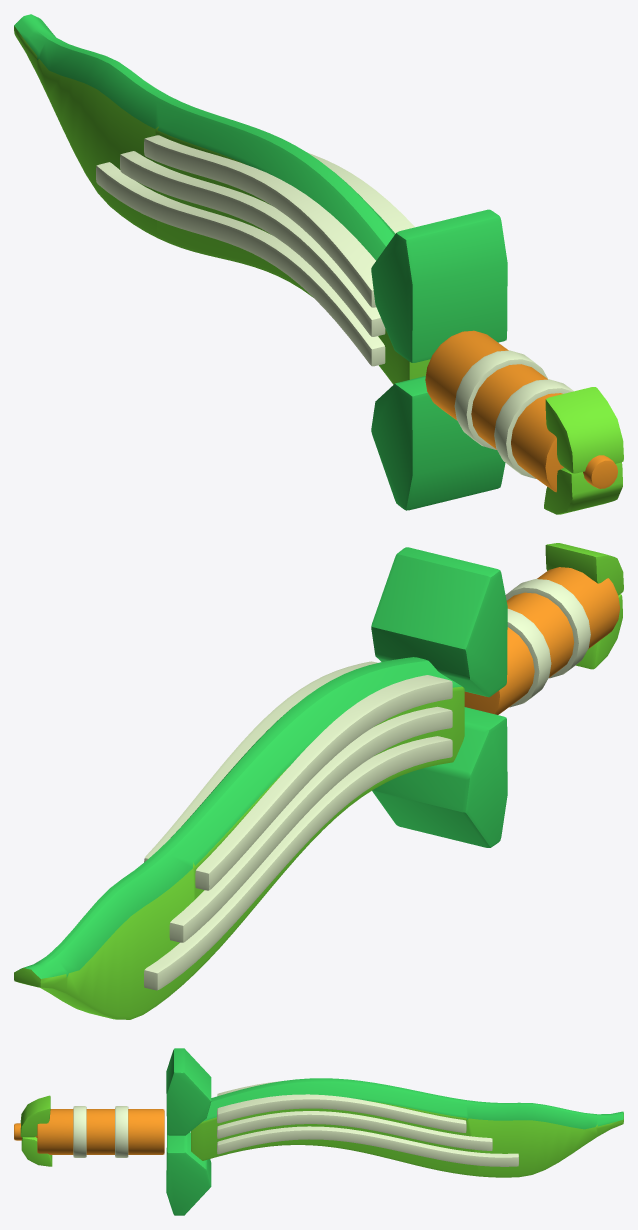
File: Sword_SapwoodFalchion.glb
3 renders of one model, top to bottom at view 1: azimuth 30°, elevation 25°; view 2: azimuth 150°, elevation 25°; view 3: azimuth 270°, elevation 25°, orthographic. The views are drawn at different scales.
Parts seen in each view (by area): view 1: Sword_SapwoodFalchion; view 2: Sword_SapwoodFalchion; view 3: Sword_SapwoodFalchion.
Boxes of the visible parts, x1,y1,x2,y2 form: Sword_SapwoodFalchion: [14, 14, 623, 514]; Sword_SapwoodFalchion: [14, 543, 623, 1019]; Sword_SapwoodFalchion: [14, 1048, 623, 1215].
Size of the model in its own units: 0.096 by 0.26 by 1.
Materials: 1 (1 with a texture image).
